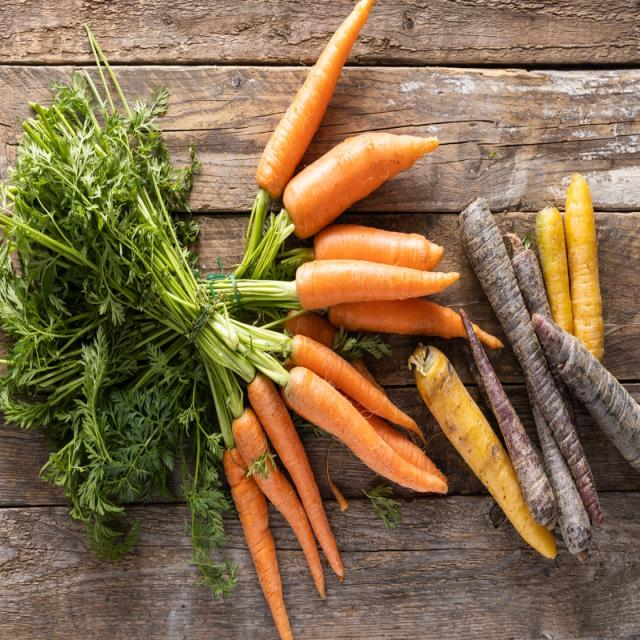Carrot: (294, 260, 454, 310)
